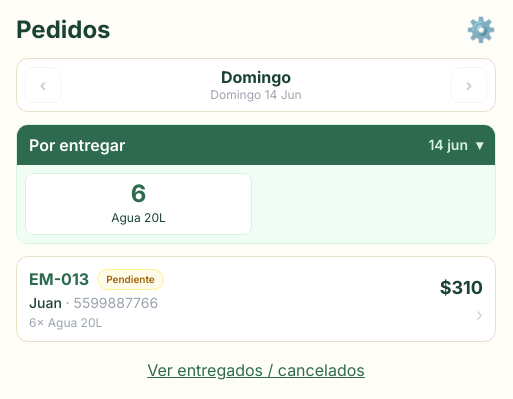
Test: AdminOrdersPage › el enlace de historial muestra entregados
Step 1. Click the button "Ver entregados / cancelados" → click(256, 370), box [16, 358, 496, 382]
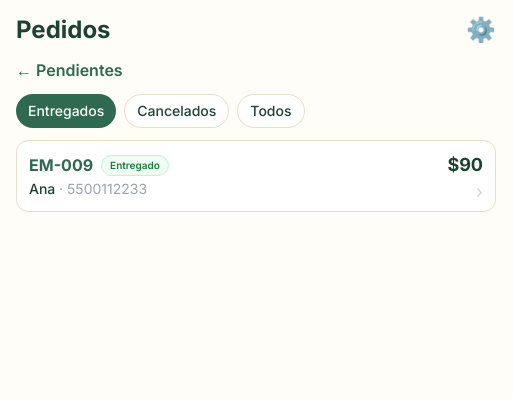
Check: the text "EM-009" is shown, box [29, 153, 93, 177]
